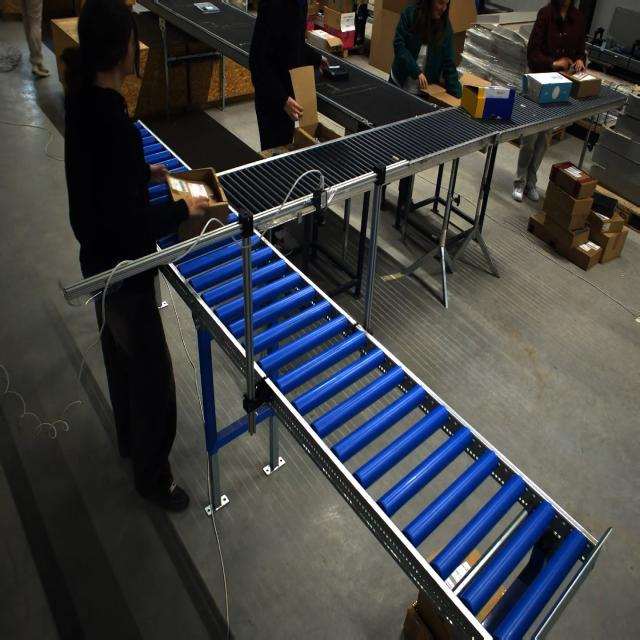box: (165, 167, 229, 241), (457, 77, 514, 120), (261, 120, 319, 158), (521, 72, 572, 105)
product: (322, 65, 348, 80), (193, 2, 220, 14)
